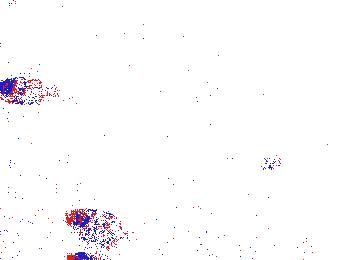X-ray fish: (64, 208, 132, 244), (1, 71, 56, 103)
red belly glassfish: (261, 151, 286, 171)
